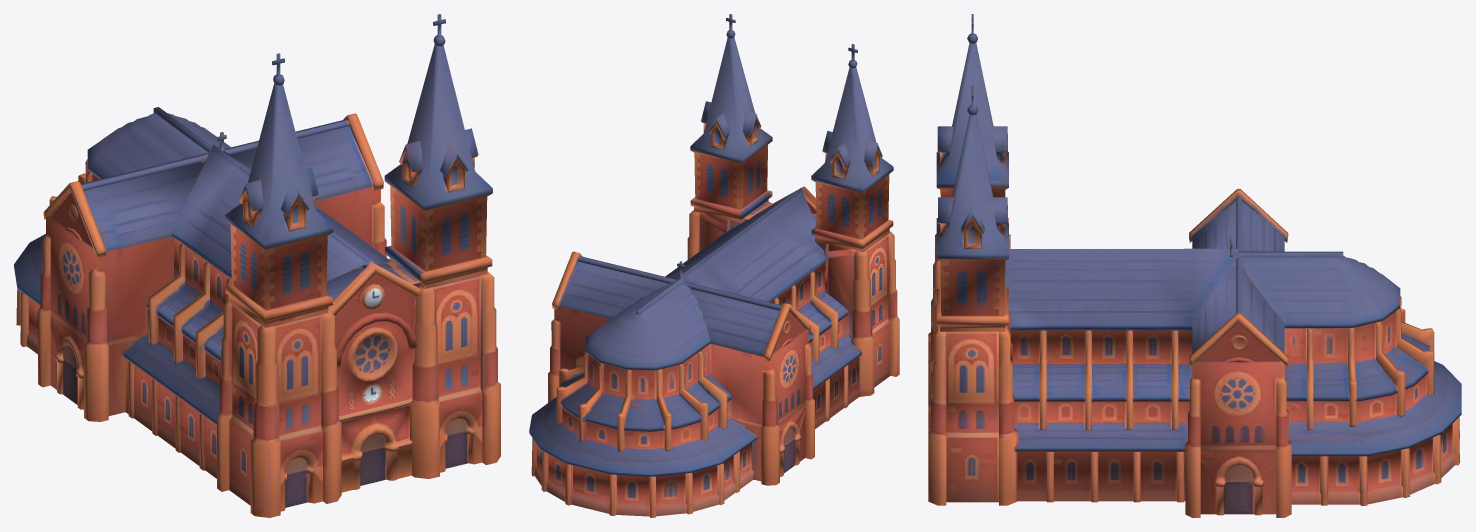
Rendered from nhathoducba-model.glb.
The picture shows the model from 3 angles, left to right: view 1: azimuth 30°, elevation 25°; view 2: azimuth 150°, elevation 25°; view 3: azimuth 270°, elevation 25°; orthographic projection. The views are drawn at different scales.
Visible parts, largest first — view 1: tripo_node_81b4ee38-e9c7-4c5d-ba19-812d33cf961b; view 2: tripo_node_81b4ee38-e9c7-4c5d-ba19-812d33cf961b; view 3: tripo_node_81b4ee38-e9c7-4c5d-ba19-812d33cf961b.
Part boxes in pixels (<box>): tripo_node_81b4ee38-e9c7-4c5d-ba19-812d33cf961b: <box>14,14,500,517</box>; tripo_node_81b4ee38-e9c7-4c5d-ba19-812d33cf961b: <box>529,14,899,517</box>; tripo_node_81b4ee38-e9c7-4c5d-ba19-812d33cf961b: <box>928,14,1461,517</box>.
Bounding box in the file's own units: 0.5942 × 0.8276 × 0.9995.
Materials: 1 (1 with a texture image).
